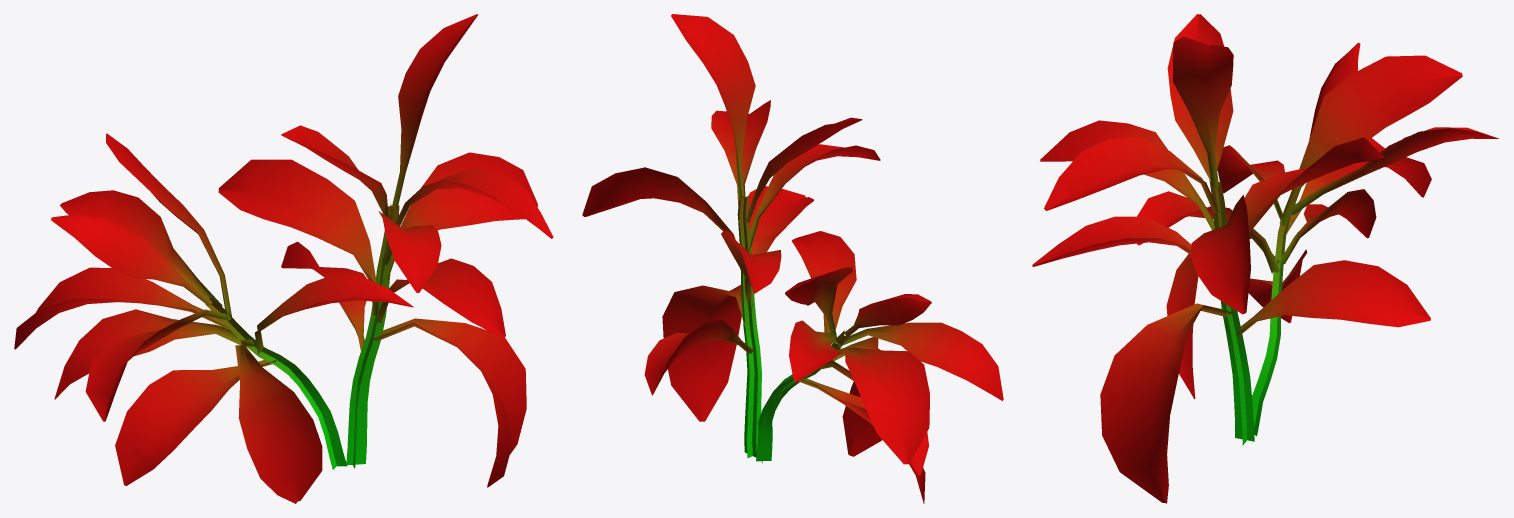
Rendered from FBX_Plant_3D_011.fbx.
3 renders of one model, left to right at view 1: azimuth 30°, elevation 25°; view 2: azimuth 150°, elevation 25°; view 3: azimuth 270°, elevation 25°, orthographic. The views are drawn at different scales.
Visible parts, largest first — view 1: Var2_LOD1; view 2: Var2_LOD1; view 3: Var2_LOD1.
Part boxes in pixels (x1,y1,x2,y2): Var2_LOD1: (14,14,553,503); Var2_LOD1: (582,14,1003,503); Var2_LOD1: (1032,14,1498,503).
Bounding box in the file's own units: 106 × 103 × 93.51.
